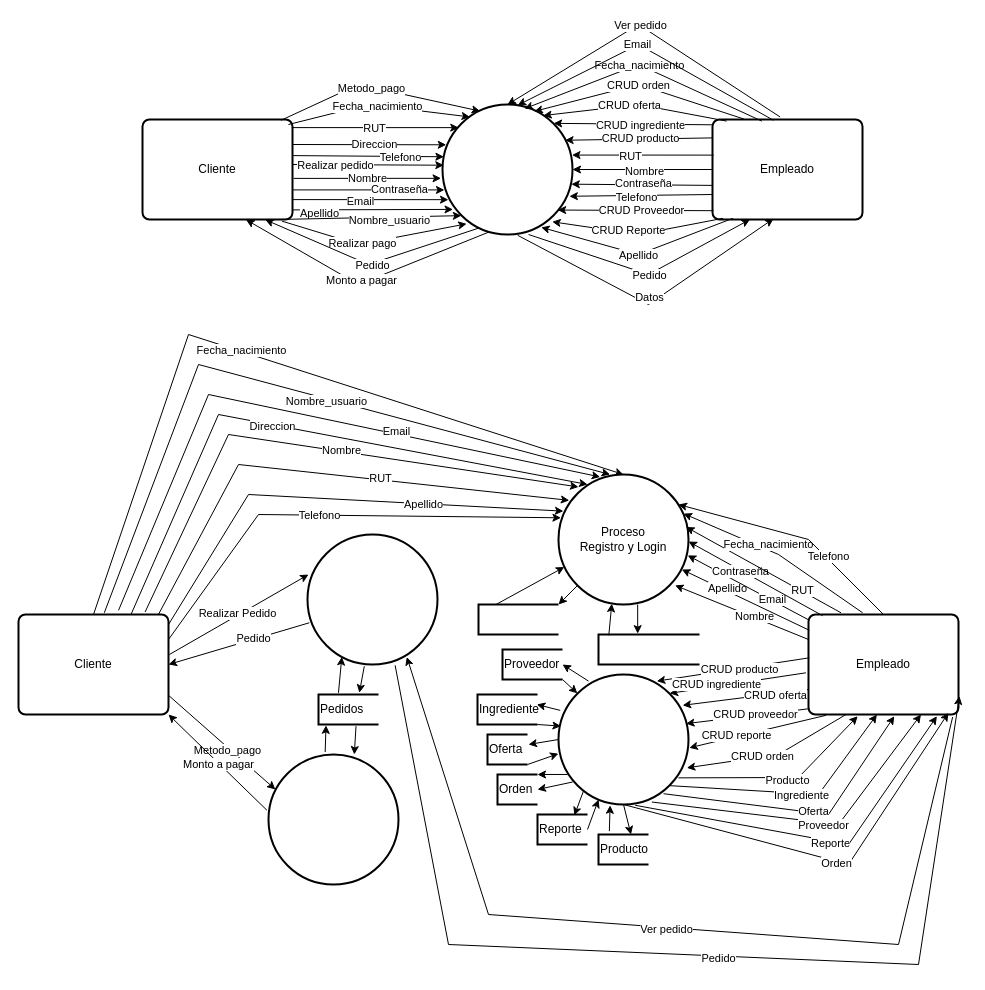
Image size: 985x990. Some labels were removed from this diagram. The box of each missing label's shape, as (x1, y1, x2, y2) in pixels:
Cuenta Cliente: (477, 603, 559, 635)
Cuenta Empleado: (597, 633, 700, 665)
Proceso Ingreso: (557, 673, 689, 805)
Proceso Pago: (267, 753, 399, 885)
Proceso Pedido: (306, 533, 438, 665)
Proceso web Milano: (441, 103, 573, 235)
